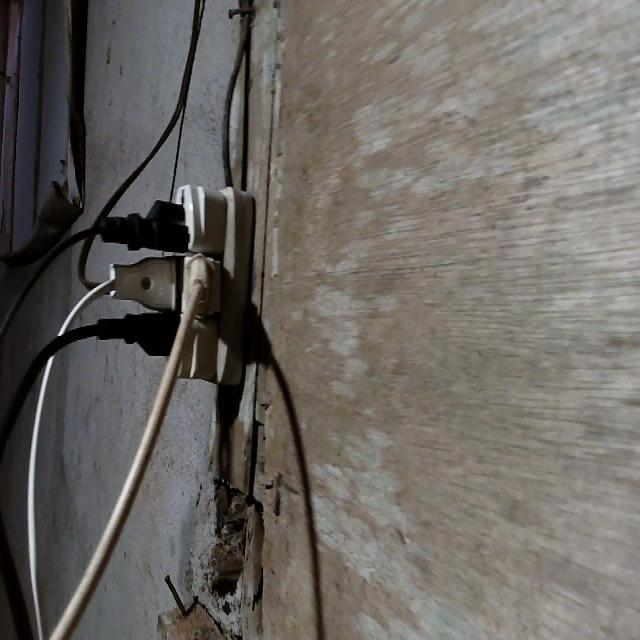-: (86, 180, 255, 392)
